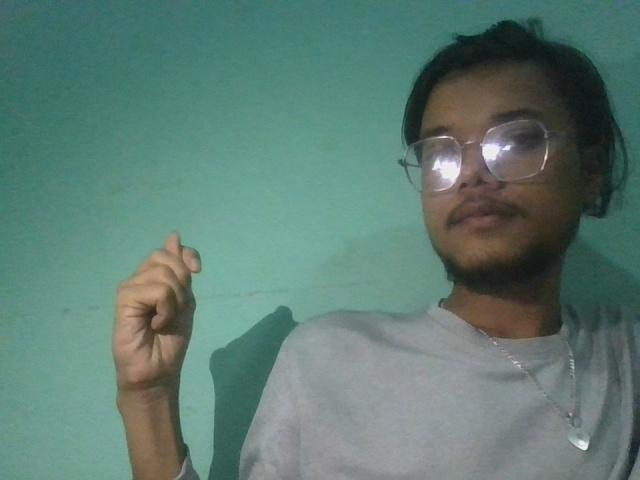Washroom: (98, 220, 217, 401)
